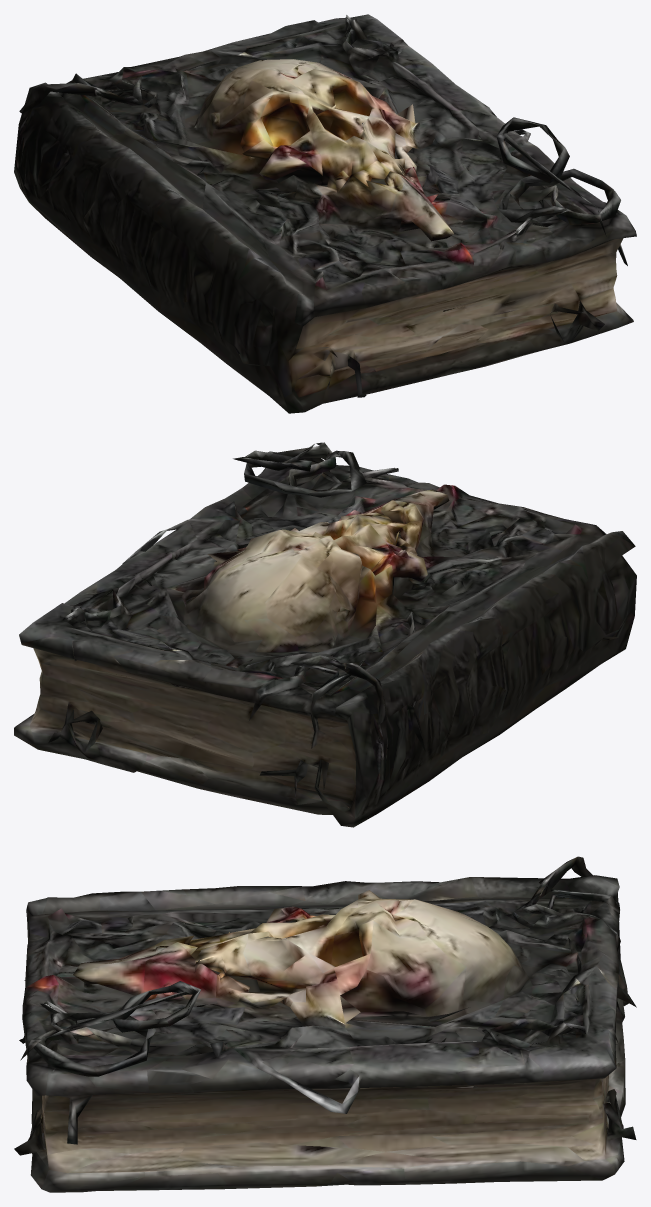
Rendered from chained_book.glb.
3 views of the same model, one above another, from view 1: azimuth 30°, elevation 25°; view 2: azimuth 150°, elevation 25°; view 3: azimuth 270°, elevation 25° (orthographic). The views are drawn at different scales.
Parts seen in each view (by area): view 1: tripo_node_acb23b7e-8cf2-4f72-91bf-3d0242e99ec6; view 2: tripo_node_acb23b7e-8cf2-4f72-91bf-3d0242e99ec6; view 3: tripo_node_acb23b7e-8cf2-4f72-91bf-3d0242e99ec6.
Part boxes in pixels (x1=…): tripo_node_acb23b7e-8cf2-4f72-91bf-3d0242e99ec6: x1=14, y1=14, x2=636, y2=413; tripo_node_acb23b7e-8cf2-4f72-91bf-3d0242e99ec6: x1=14, y1=442, x2=636, y2=827; tripo_node_acb23b7e-8cf2-4f72-91bf-3d0242e99ec6: x1=14, y1=856, x2=636, y2=1192.
Size of the model in its own units: 0.7593 by 0.3442 by 0.9606.
1 material, 1 textured.
